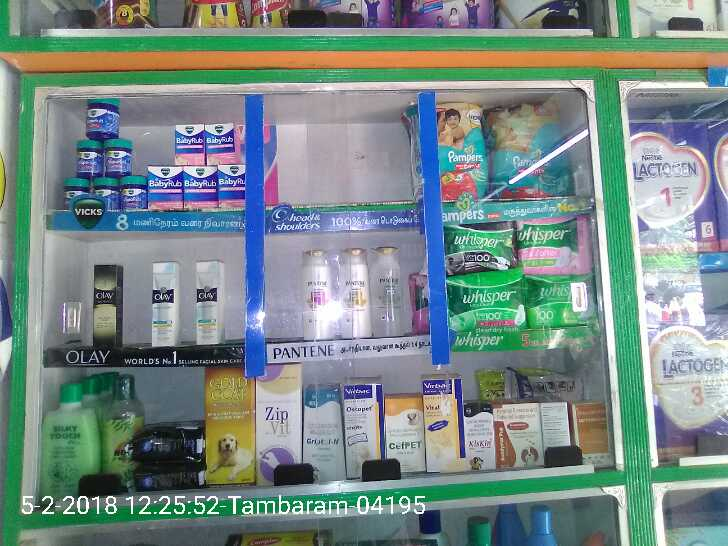vicks: (65, 90, 255, 208)
